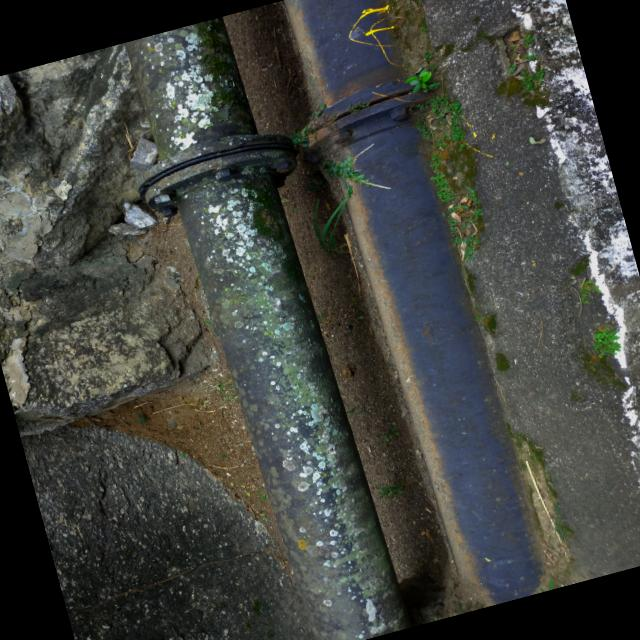gas: (122, 16, 413, 640), (282, 0, 555, 599)
